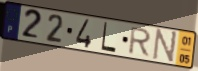2: (20, 8, 45, 44), (45, 13, 65, 45)
4: (75, 18, 93, 50)
L: (100, 21, 117, 55)
N: (151, 28, 179, 65)
R: (126, 26, 153, 58)
